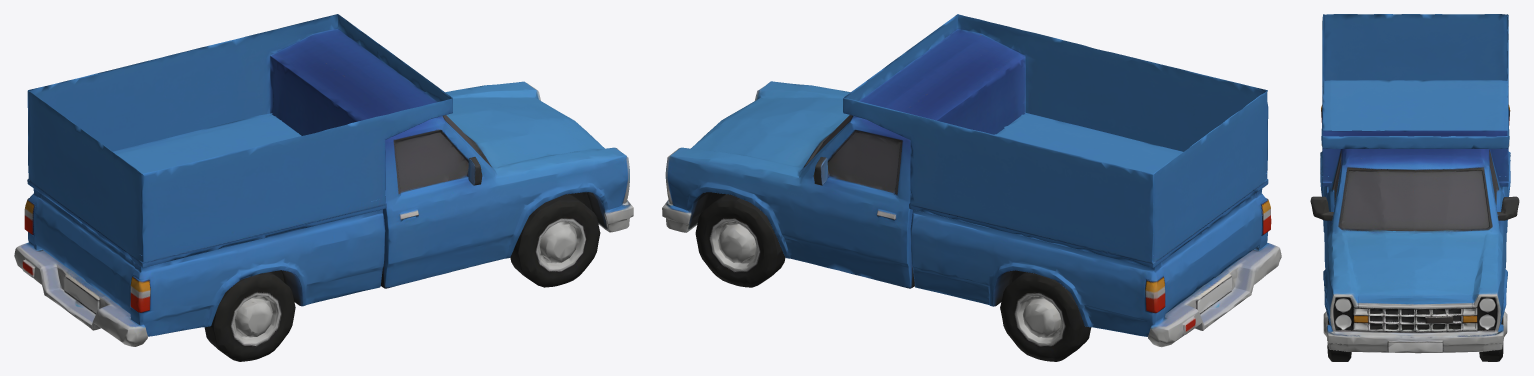
The model's file is nissanabi2.glb.
The picture shows the model from 3 angles, left to right: view 1: azimuth 30°, elevation 25°; view 2: azimuth 150°, elevation 25°; view 3: azimuth 270°, elevation 25°; orthographic projection. The views are drawn at different scales.
Visible parts, largest first — view 1: metal_truck_bed, body, Right_Front_Wheel, Right_Back_Wheel, floor; view 2: metal_truck_bed, body, Left_Front_Wheel, Left_Back_Wheel, floor; view 3: body, metal_truck_bed, floor, Left_Front_Wheel, Right_Front_Wheel.
Boxes of the visible parts, <box> form: metal_truck_bed: <box>27,14,452,267</box>; body: <box>14,81,633,346</box>; Right_Front_Wheel: <box>510,194,600,287</box>; Right_Back_Wheel: <box>204,272,295,361</box>; floor: <box>28,113,385,255</box>; metal_truck_bed: <box>843,14,1268,267</box>; body: <box>662,81,1281,347</box>; Left_Front_Wheel: <box>695,194,785,287</box>; Left_Back_Wheel: <box>1000,272,1091,361</box>; floor: <box>994,112,1267,255</box>; body: <box>1310,105,1519,353</box>; metal_truck_bed: <box>1321,14,1509,181</box>; floor: <box>1322,80,1508,176</box>; Left_Front_Wheel: <box>1479,311,1507,361</box>; Right_Front_Wheel: <box>1323,311,1351,361</box>.
Bounding box in the file's own units: 1 × 0.4018 × 0.4287.
Materials: 2 (2 with a texture image).
